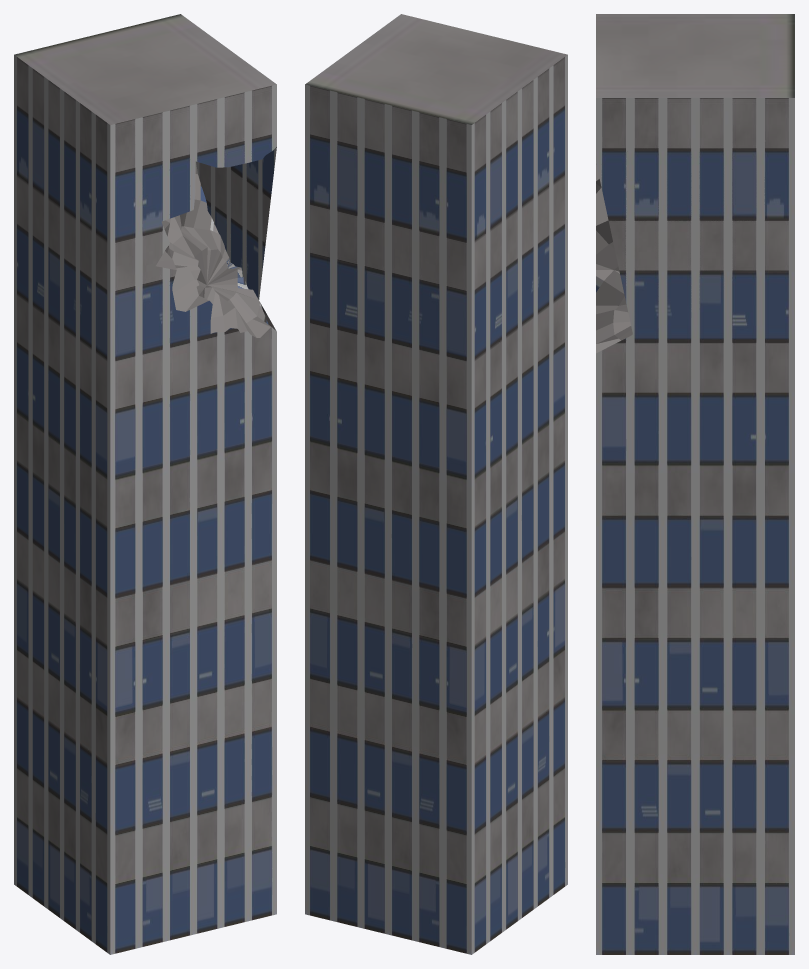
Rendered from Building_Long_Broken.fbx.
The picture shows the model from 3 angles, left to right: view 1: azimuth 30°, elevation 25°; view 2: azimuth 150°, elevation 25°; view 3: azimuth 270°, elevation 25°; orthographic projection. The views are drawn at different scales.
Visible parts, largest first — view 1: Cube.004; view 2: Cube.004; view 3: Cube.004.
Part boxes in pixels (bbox=[...]): Cube.004: bbox=[14, 14, 276, 954]; Cube.004: bbox=[305, 14, 567, 954]; Cube.004: bbox=[596, 14, 794, 954].
Bounding box in the file's own units: 752 × 3575 × 752.
1 material, 1 textured.
